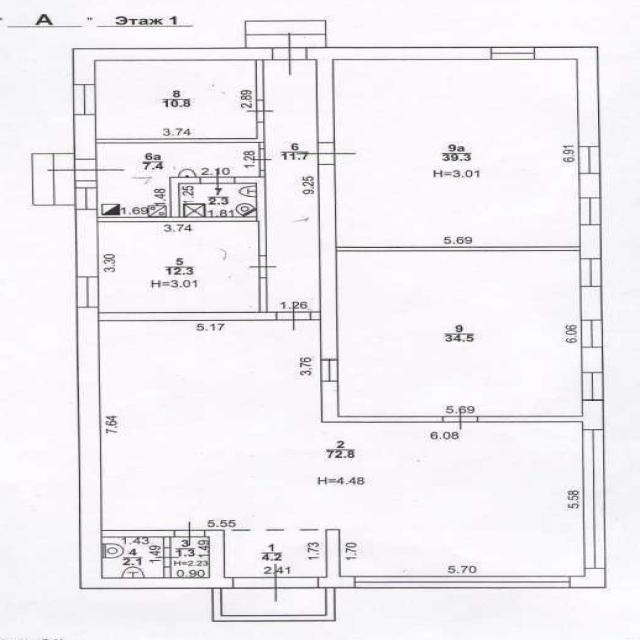Bathrooms: (181, 184, 255, 216), (103, 538, 163, 577)
Corridors: (266, 60, 318, 311), (222, 589, 324, 615), (244, 20, 327, 48), (173, 538, 209, 577)
Doors: (232, 563, 319, 603), (46, 160, 127, 181), (273, 31, 308, 76), (300, 142, 358, 165), (276, 301, 311, 333), (200, 168, 236, 192), (442, 408, 479, 431), (174, 521, 205, 547), (244, 99, 275, 122), (249, 255, 279, 278), (246, 148, 276, 171), (154, 548, 181, 567)
LBwalls: (75, 308, 233, 589), (307, 47, 492, 142), (72, 48, 273, 84), (536, 46, 601, 146), (317, 163, 340, 359), (318, 529, 355, 588), (74, 209, 99, 276), (98, 312, 277, 321), (73, 115, 97, 159), (320, 382, 340, 422), (579, 225, 602, 258), (580, 286, 602, 320), (580, 400, 605, 429), (571, 569, 607, 588), (580, 348, 604, 373), (579, 174, 601, 197), (75, 180, 97, 187), (311, 311, 320, 321)
Offices: (101, 320, 583, 576), (334, 60, 578, 246), (338, 252, 581, 416), (99, 223, 259, 312), (96, 61, 256, 137), (97, 143, 258, 216)
Stairs: (31, 152, 74, 206)
Walls: (96, 122, 265, 149), (211, 588, 337, 621), (235, 171, 267, 256), (169, 176, 200, 217), (101, 530, 174, 547), (337, 247, 579, 251), (98, 217, 256, 222), (338, 416, 443, 423), (478, 416, 582, 422), (255, 60, 264, 100), (259, 278, 268, 312), (162, 566, 172, 578)
Windows: (583, 429, 606, 569), (354, 576, 570, 588), (72, 84, 96, 115), (76, 276, 99, 308), (581, 372, 604, 400), (578, 146, 601, 173), (491, 46, 535, 60), (581, 320, 603, 348), (580, 197, 601, 225), (579, 258, 600, 286), (75, 188, 98, 209), (320, 359, 339, 382)
